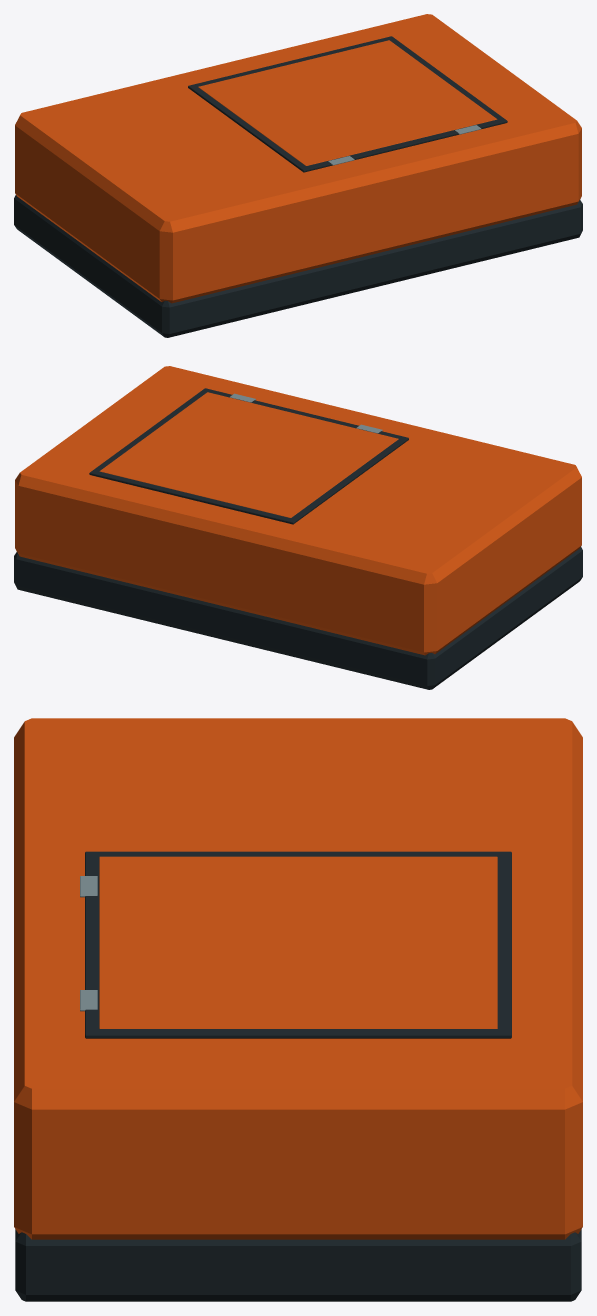
3 views of the same model, one above another, from view 1: azimuth 30°, elevation 25°; view 2: azimuth 150°, elevation 25°; view 3: azimuth 270°, elevation 25° (orthographic). The views are drawn at different scales.
Visible parts, largest first — view 1: part; view 2: part; view 3: part.
Boxes of the visible parts, x1=… form: part: x1=14, y1=14, x2=582, y2=337; part: x1=14, y1=366, x2=582, y2=689; part: x1=14, y1=718, x2=582, y2=1301.
Size of the model in its own units: 0.6 by 0.38 by 0.1599.
